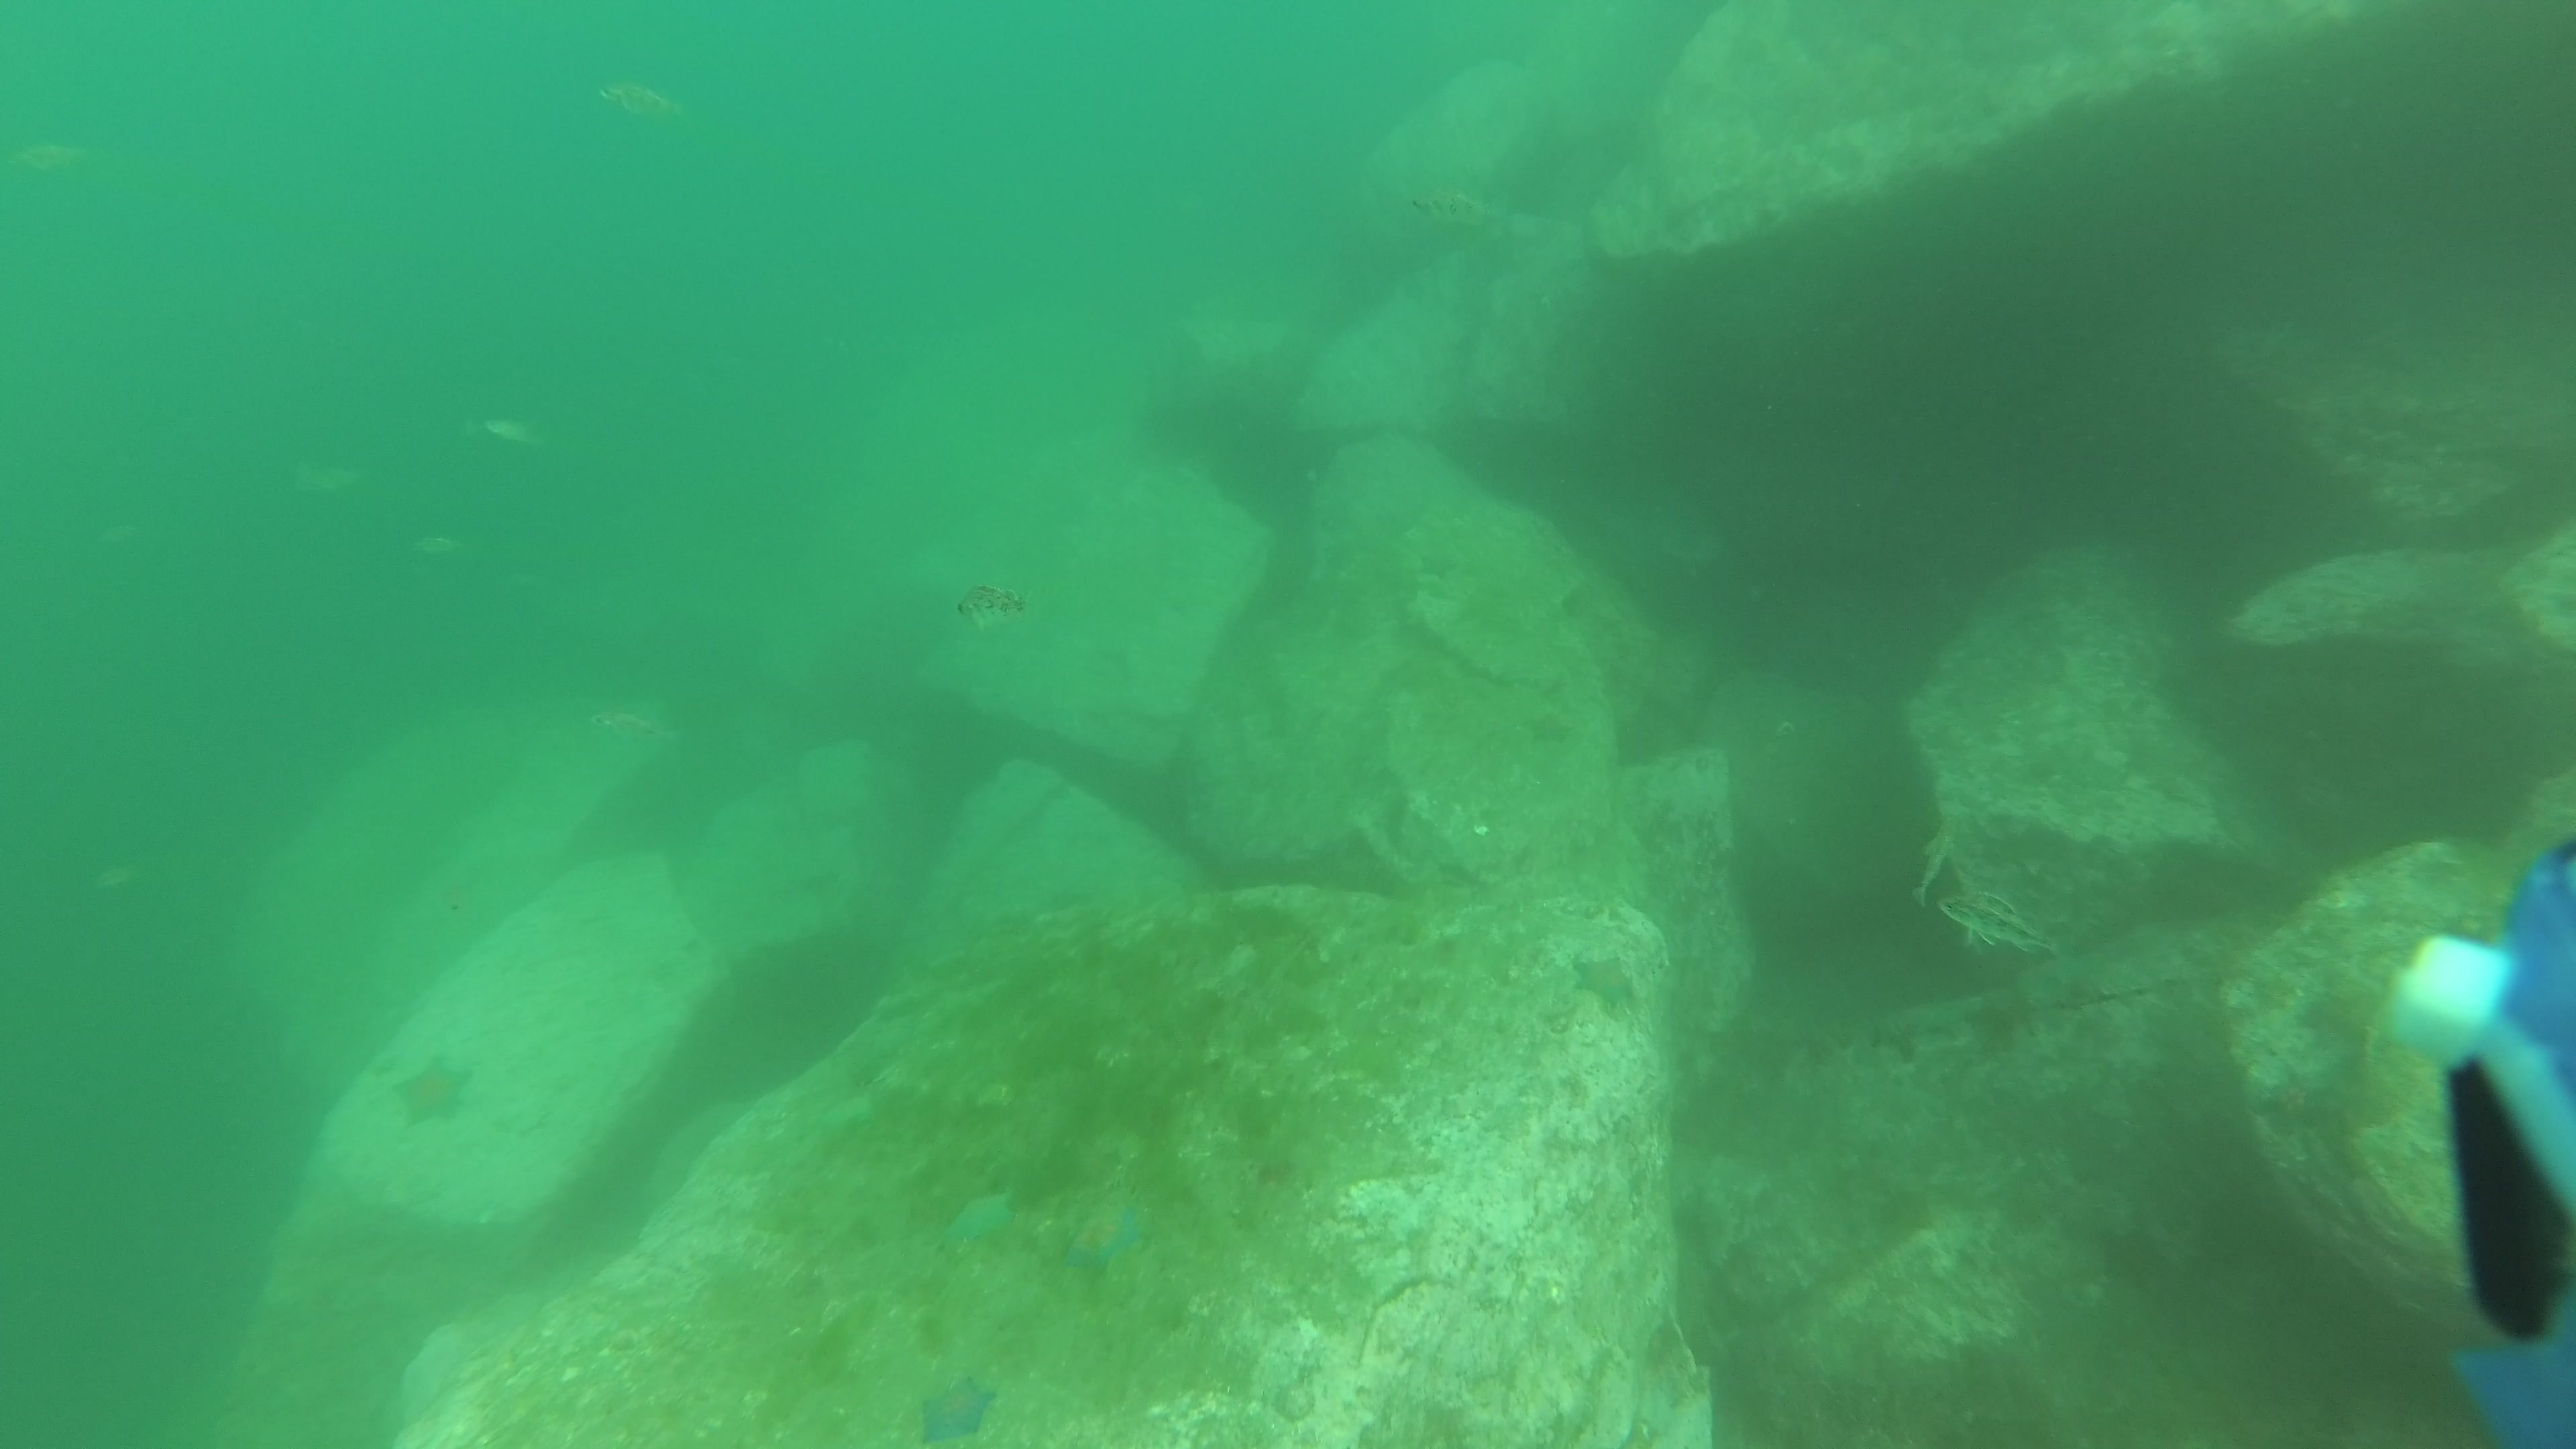starfish: (2254, 1058, 2341, 1139), (386, 1053, 478, 1129), (1063, 1194, 1152, 1272), (913, 1376, 1003, 1445), (938, 1187, 1023, 1254), (1571, 950, 1640, 1016)
